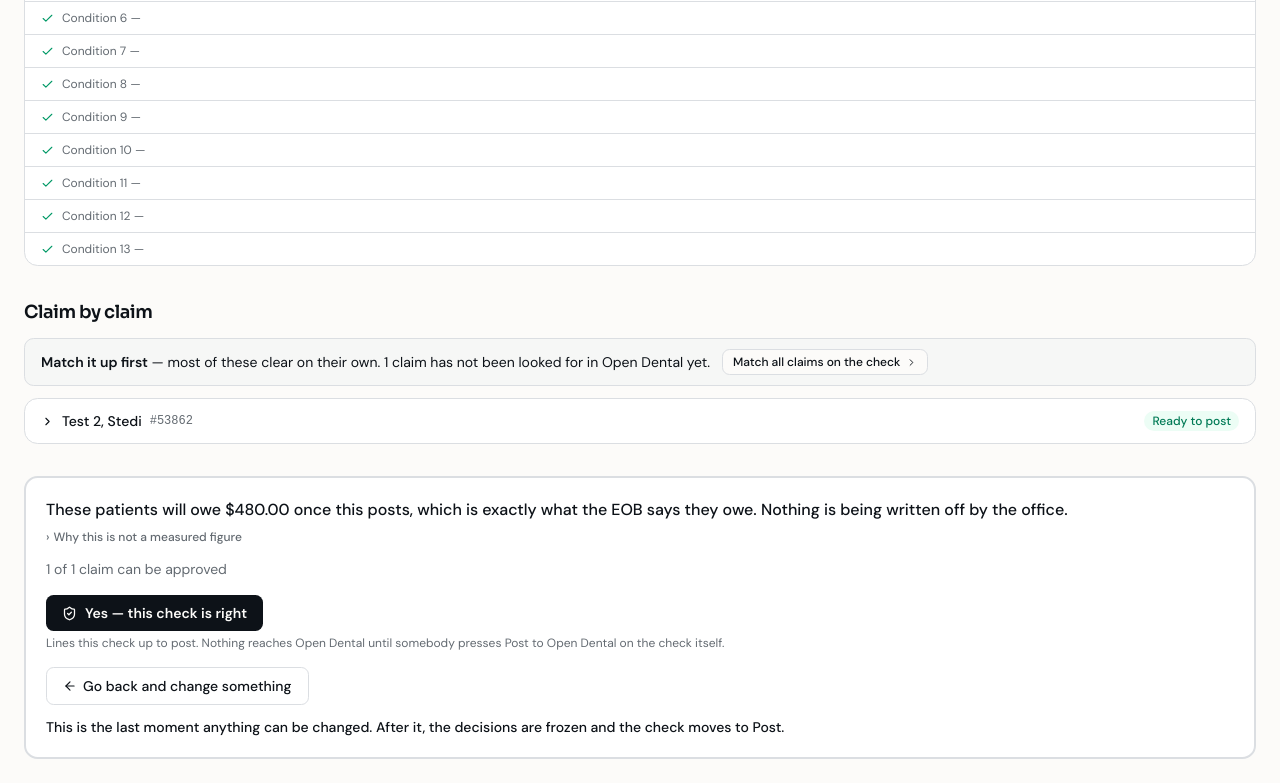
Scenario: attribution › prints the name the ROUTE sent, without patching it in the browser
(page scrolled)
Click the button with test id "approve-button" at [155, 613], box [46,595,263,631]
(page scrolled)
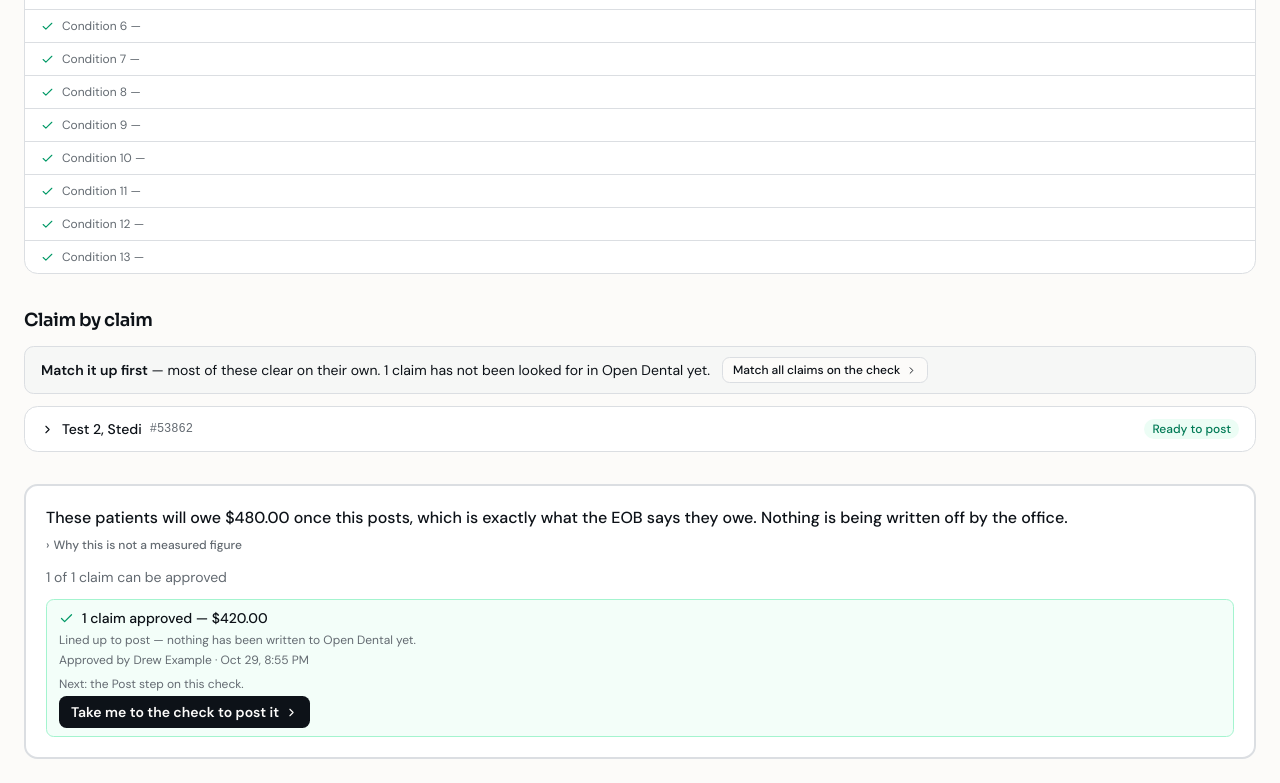
Now the text with test id "approve-attribution" shows "Approved by Drew Example", box [59,652,309,668]
